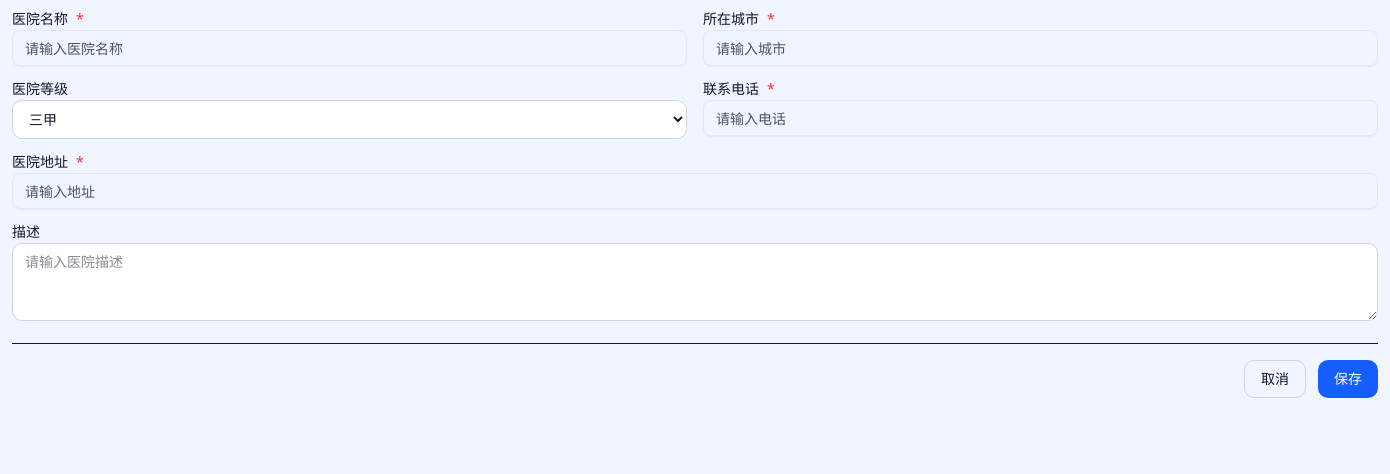
Scenario: HospitalForm › shows all 4 validation errors on empty submit
Step 1. Click the button "保存" → click(1348, 379), box [1318,360,1378,398]
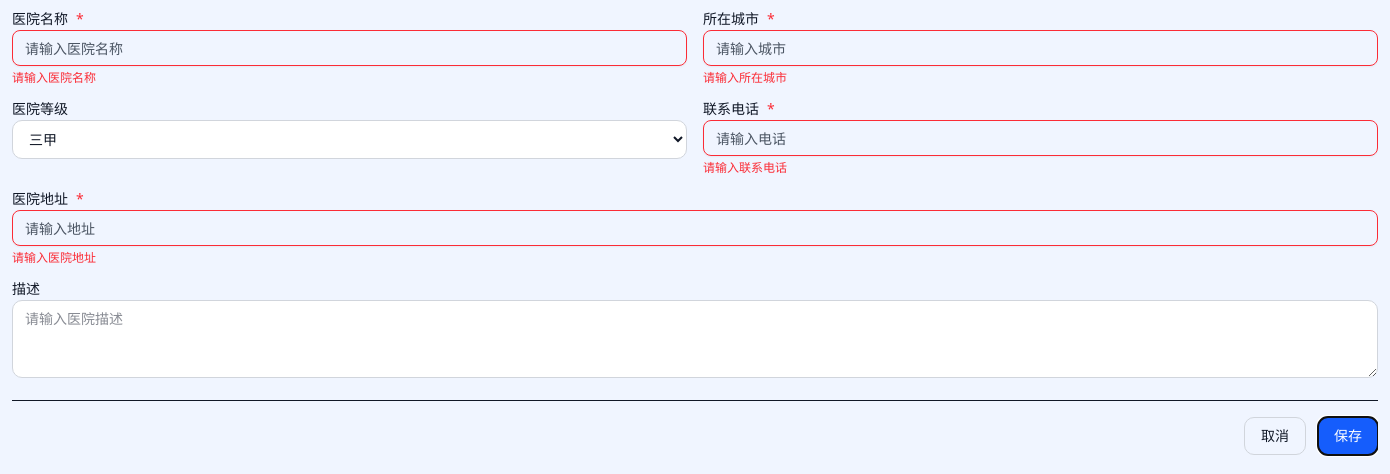
Check: the text "请输入医院名称" is shown, box [12,69,96,86]
Check: the text "请输入所在城市" is shown, box [703,69,787,86]
Check: the text "请输入联系电话" is shown, box [703,159,787,176]
